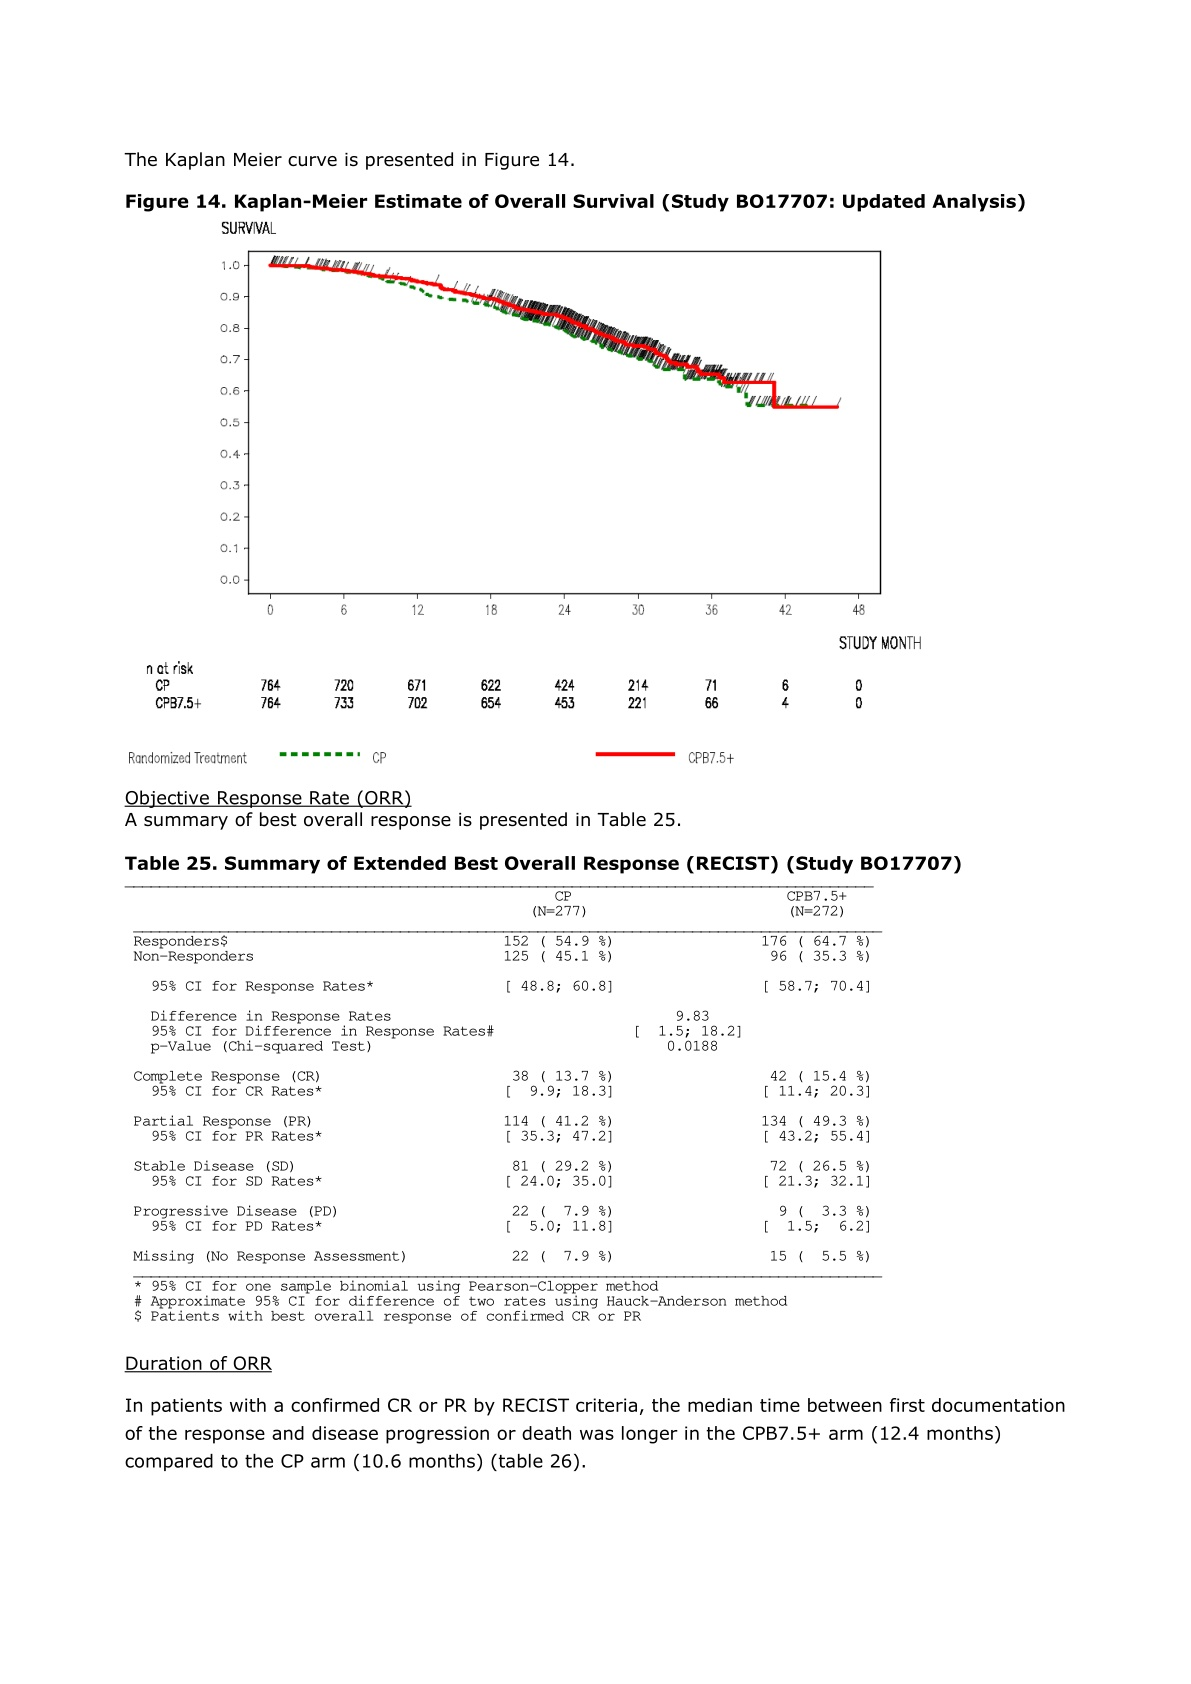nolines: (151, 674, 867, 713)
partial_lined_merged_cells: (122, 885, 884, 1279)
